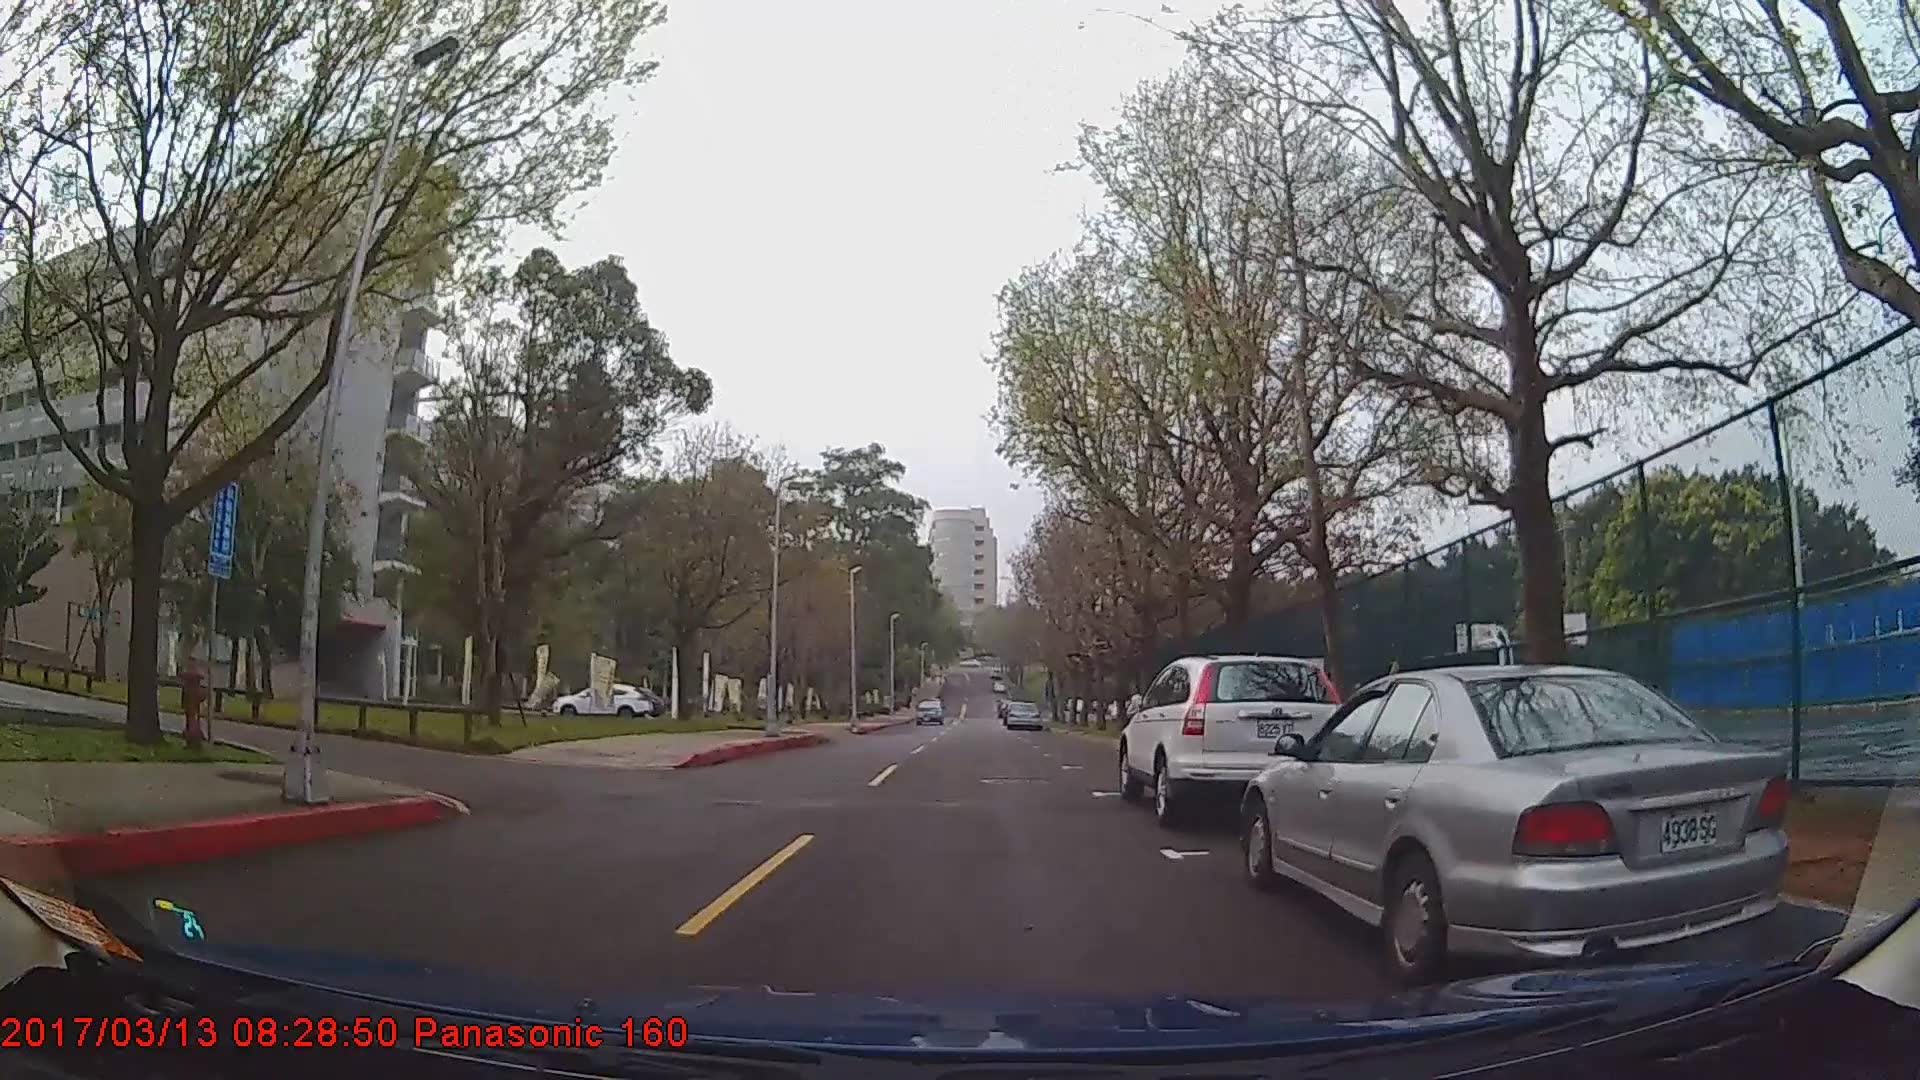vehicle: (1242, 663, 1792, 978), (1117, 655, 1352, 825), (554, 680, 654, 719), (1004, 698, 1040, 731), (914, 695, 943, 724)
